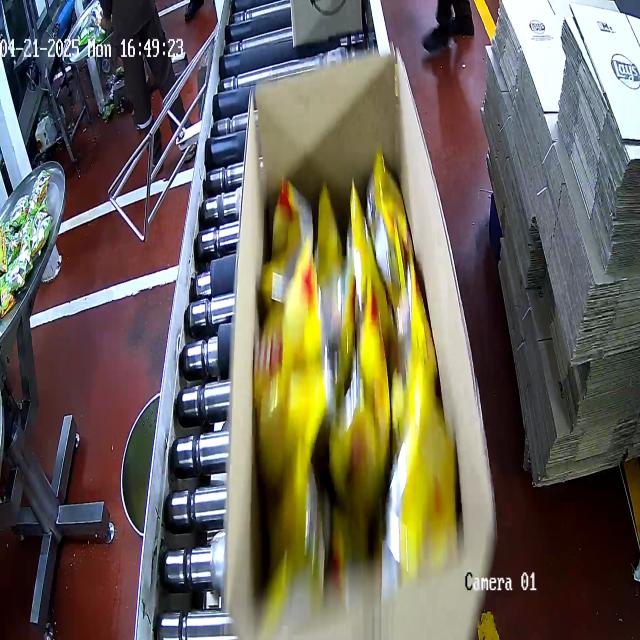SALTED: (254, 178, 455, 574)
